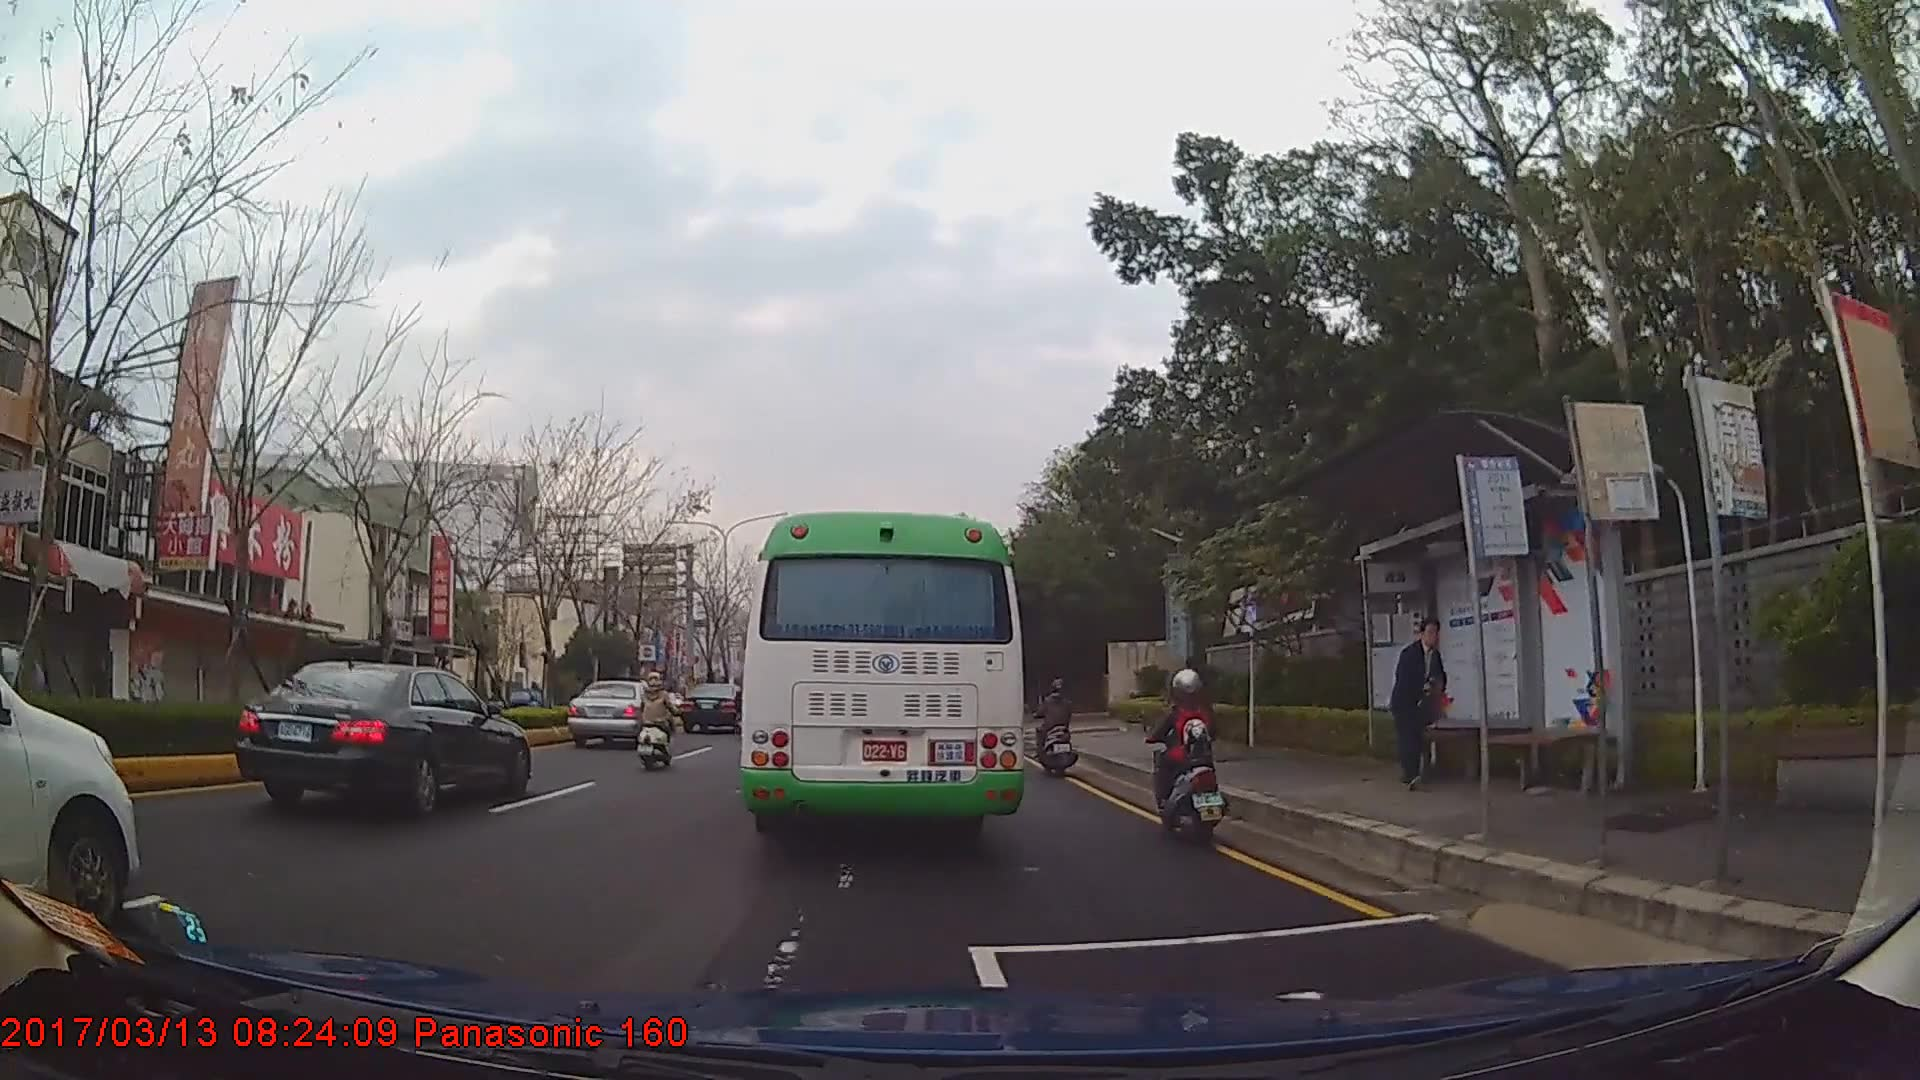pedestrian: (1393, 613, 1456, 791), (1160, 648, 1211, 754)
rider: (1144, 665, 1234, 840), (1033, 672, 1079, 776), (640, 670, 680, 764), (737, 679, 765, 730)
vehicle: (740, 509, 1021, 845), (233, 657, 531, 810), (568, 678, 666, 749), (679, 679, 747, 733)
